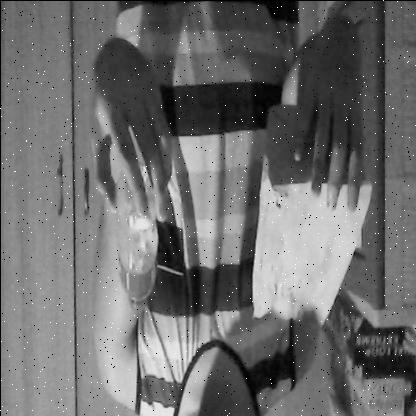Plastic Bottle: (106, 151, 169, 332)
